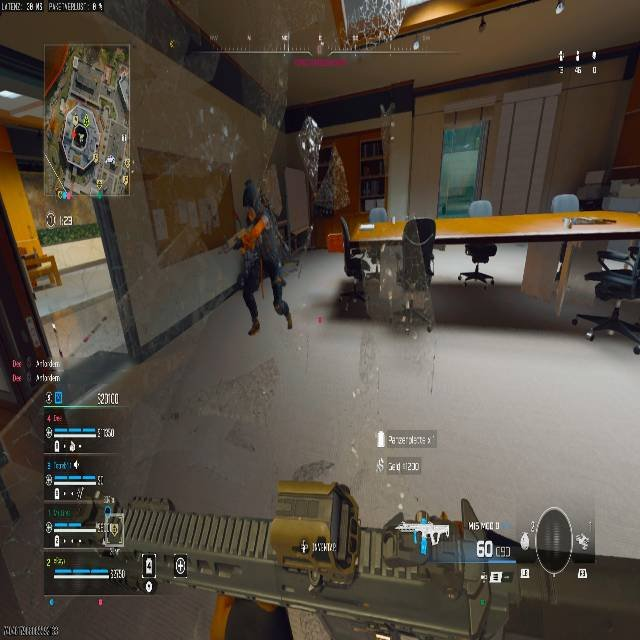head: (466, 240, 497, 260), (242, 181, 258, 207)
player: (228, 178, 293, 335), (344, 245, 373, 307)
